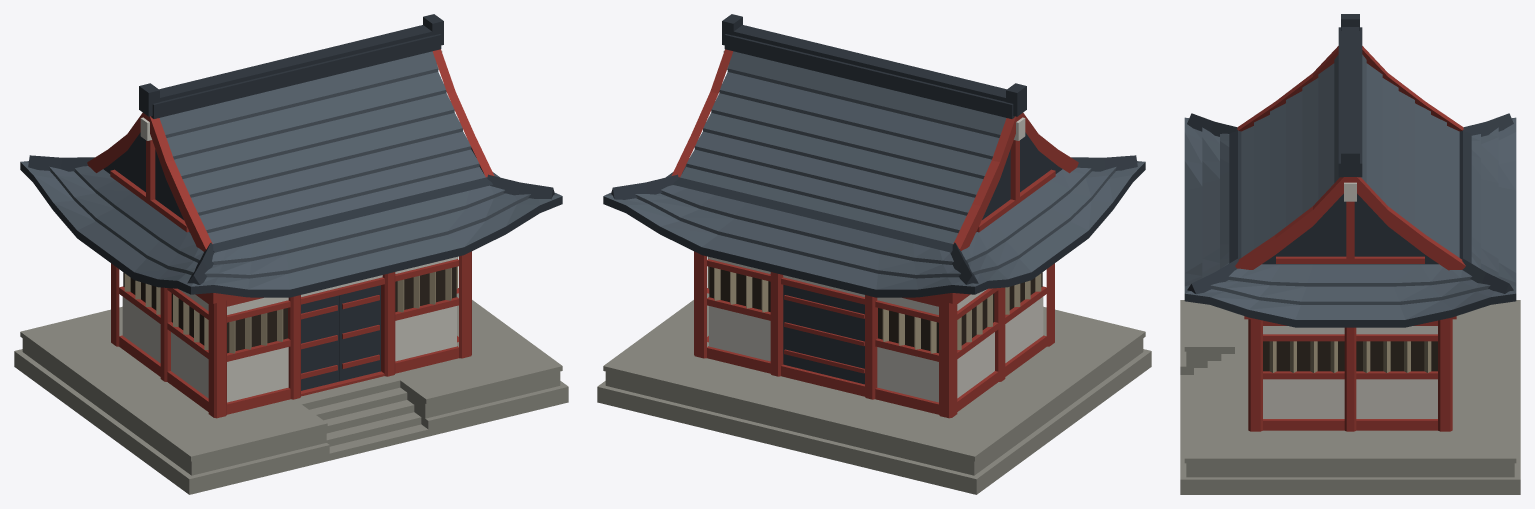
Rendered from buddhist-temple-hall-f0aa09.glb.
The picture shows the model from 3 angles, left to right: view 1: azimuth 30°, elevation 25°; view 2: azimuth 150°, elevation 25°; view 3: azimuth 270°, elevation 25°; orthographic projection. The views are drawn at different scales.
Parts seen in each view (by area): view 1: temple-hall-shell, door-r-leaf, door-l-leaf; view 2: temple-hall-shell; view 3: temple-hall-shell.
Part boxes in pixels (x1,y1,x2,y2): temple-hall-shell: [14, 14, 568, 494]; door-r-leaf: [339, 285, 380, 381]; door-l-leaf: [301, 295, 339, 390]; temple-hall-shell: [597, 14, 1151, 494]; temple-hall-shell: [1180, 14, 1520, 494].
Size of the model in its own units: 10 by 8.34 by 8.
